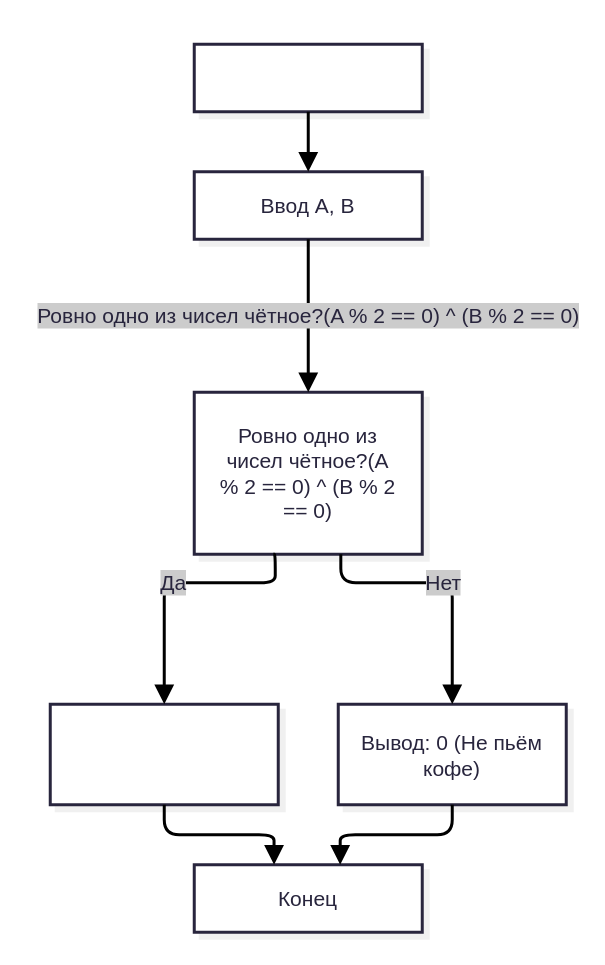
This 605x965 diagram has some shape labels left out. Each missing label, with the centre of its shape:
Вывод: 1 (Пьём кофе): point 166,757
Начало: point 310,80
